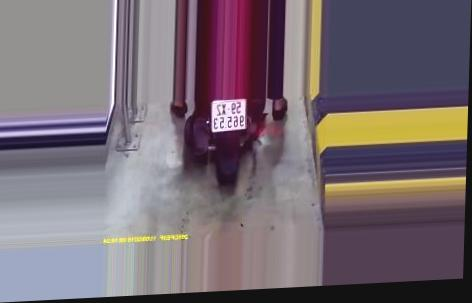License_Plate: (210, 94, 251, 135)
